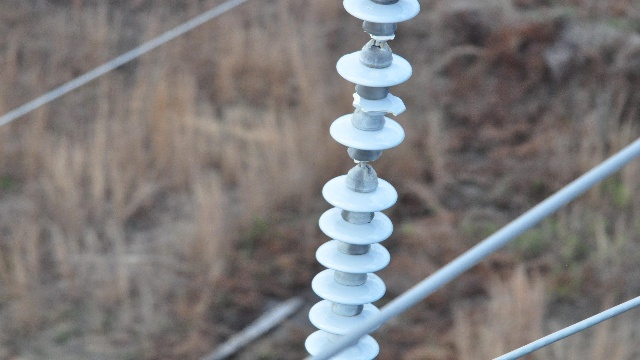broken_local: (350, 90, 406, 118), (360, 25, 400, 42), (344, 155, 381, 165)
insulator_unspecified: (302, 1, 422, 359)
